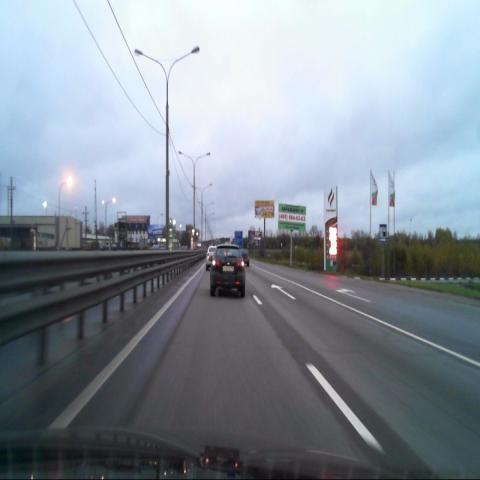7_3: (379, 224, 387, 241)
